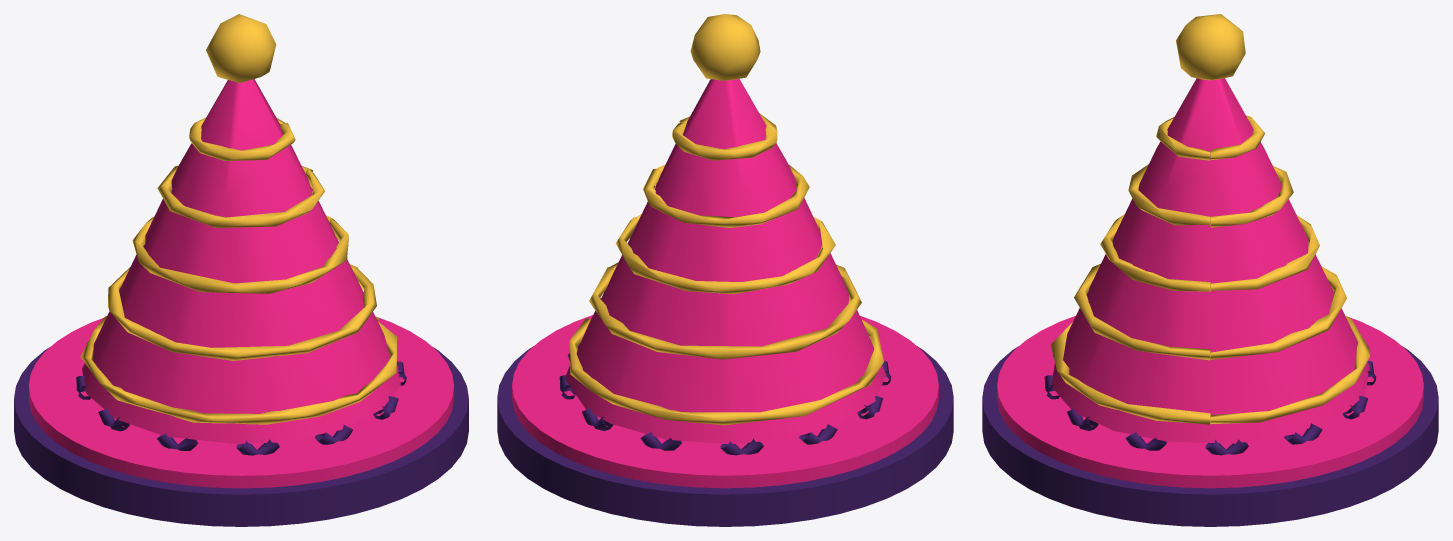
Rendered from desk.hat.party.lod1.glb.
3 views of the same model, side by side, from view 1: azimuth 30°, elevation 25°; view 2: azimuth 150°, elevation 25°; view 3: azimuth 270°, elevation 25° (orthographic).
Parts seen in each view (by area): view 1: party_cone, stand_trim, stand_base, party_braid, party_braid.001, pom_pom, party_braid.002, party_braid.003, party_braid.004; view 2: party_cone, stand_trim, stand_base, party_braid, party_braid.001, pom_pom, party_braid.002, party_braid.003, party_braid.004; view 3: party_cone, stand_trim, stand_base, party_braid, party_braid.001, pom_pom, party_braid.002, party_braid.003, party_braid.004.
Boxes of the visible parts, x1,y1,x2,y2 form: party_cone: (82,79,400,444); stand_trim: (29,317,453,488); stand_base: (14,347,468,526); party_braid: (80,316,397,424); party_braid.001: (108,264,376,360); pom_pom: (206,14,276,82); party_braid.002: (132,215,348,293); party_braid.003: (157,165,324,227); party_braid.004: (189,117,295,160); party_cone: (565,79,886,444); stand_trim: (512,315,938,488); stand_base: (497,346,953,526); party_braid: (569,318,883,425); party_braid.001: (589,262,861,359); pom_pom: (690,14,760,80); party_braid.002: (615,214,835,294); party_braid.003: (643,164,809,227); party_braid.004: (672,113,777,160); party_cone: (1051,78,1369,443); stand_trim: (997,316,1423,488); stand_base: (982,346,1438,526); party_braid: (1050,316,1369,424); party_braid.001: (1074,264,1346,360); pom_pom: (1176,14,1245,80); party_braid.002: (1100,214,1319,291); party_braid.003: (1128,164,1293,227); party_braid.004: (1156,115,1264,160).
Size of the model in its own units: 0.48 by 0.4811 by 0.48.
